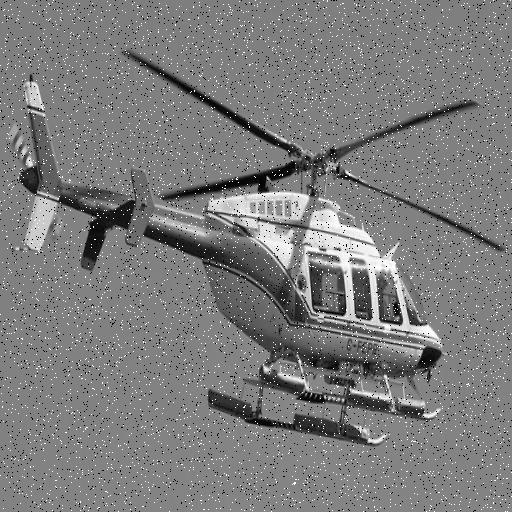helicopter: (7, 50, 508, 446)
